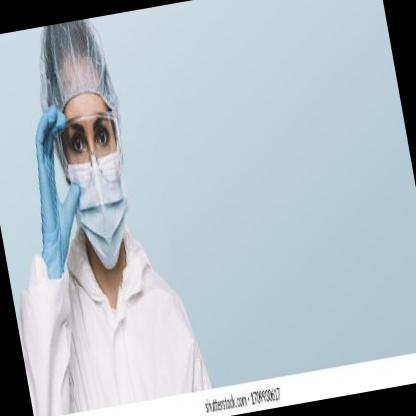Gloves: (17, 103, 95, 280)
